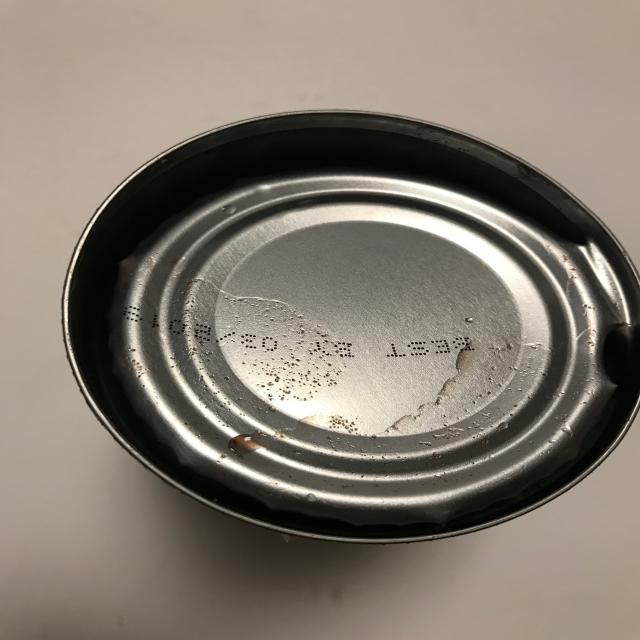metal: (61, 108, 639, 544)
